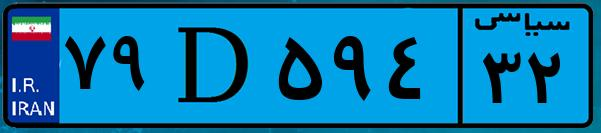2: (525, 38, 570, 115)
3: (475, 38, 525, 113)
4: (385, 28, 445, 110)
5: (270, 28, 330, 110)
7: (57, 26, 110, 100)
9: (330, 28, 385, 110), (110, 28, 158, 98)
D: (158, 12, 270, 120)
